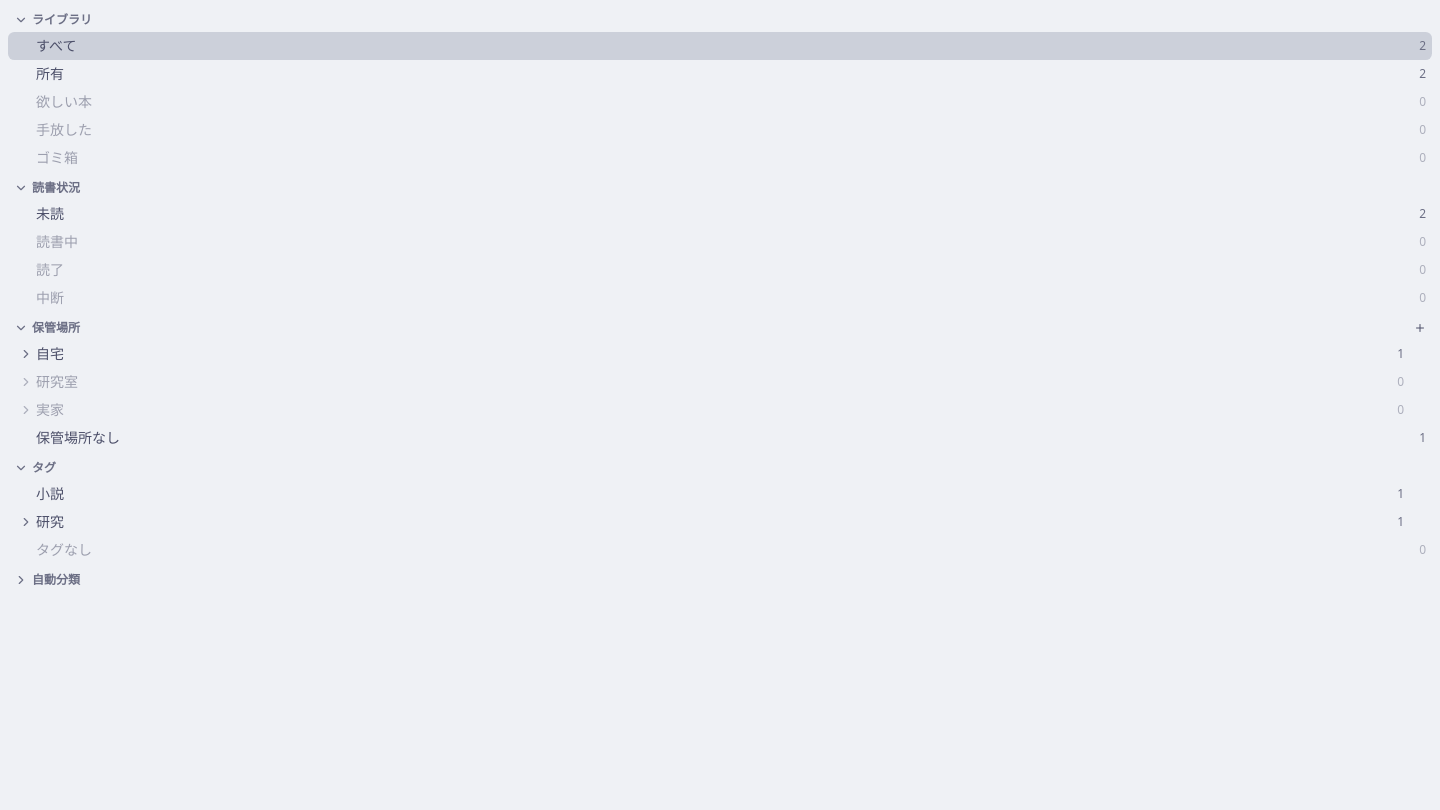
Test: サイドバーの管理（保管場所・タグ） › 保管場所 › 名前が空なら作らず、理由を出す
Step 1. Click the button named "保管場所を追加" → point(1420, 328), box [1408,316,1432,340]
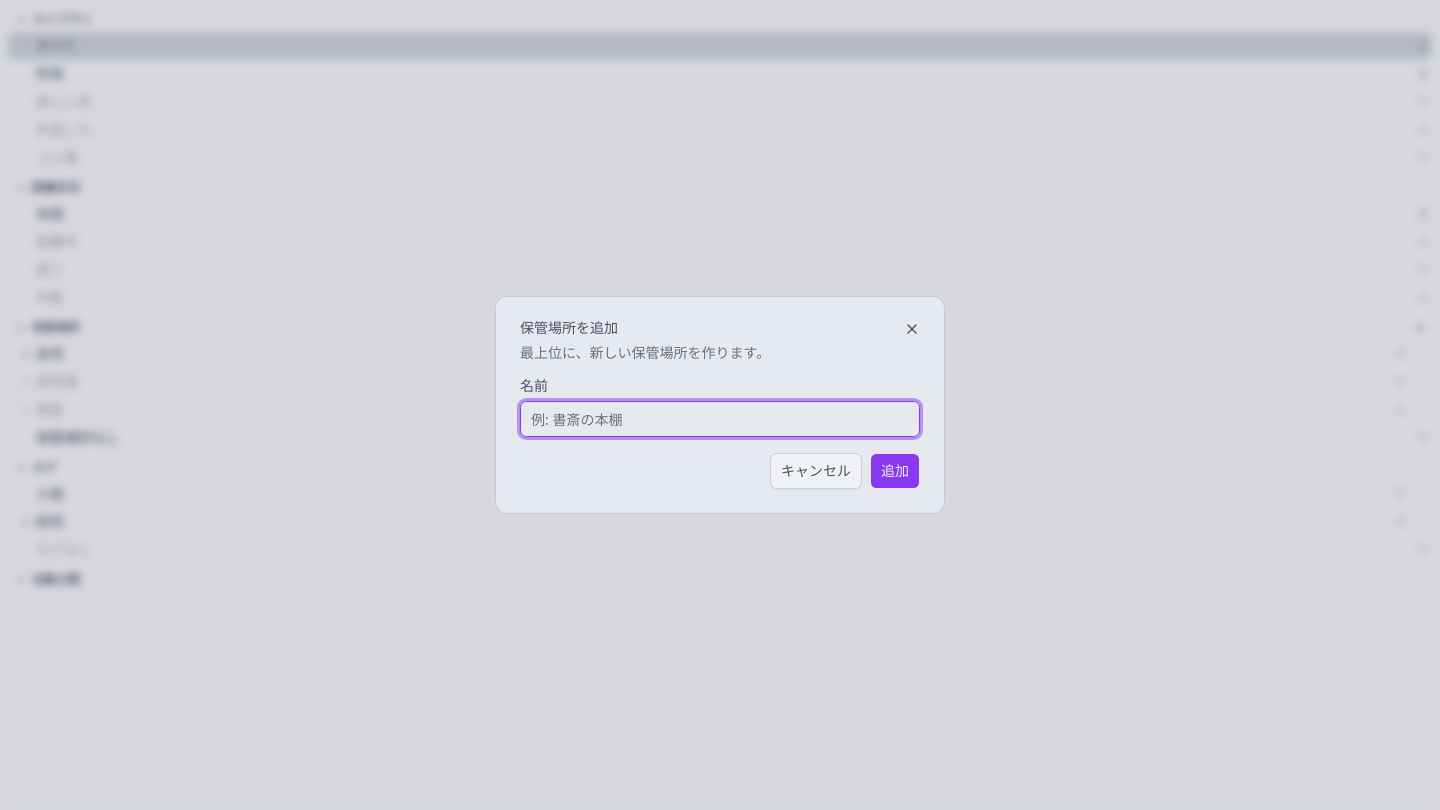
Step 2. Click the button "追加" → point(895, 471), box [870,453,920,489]
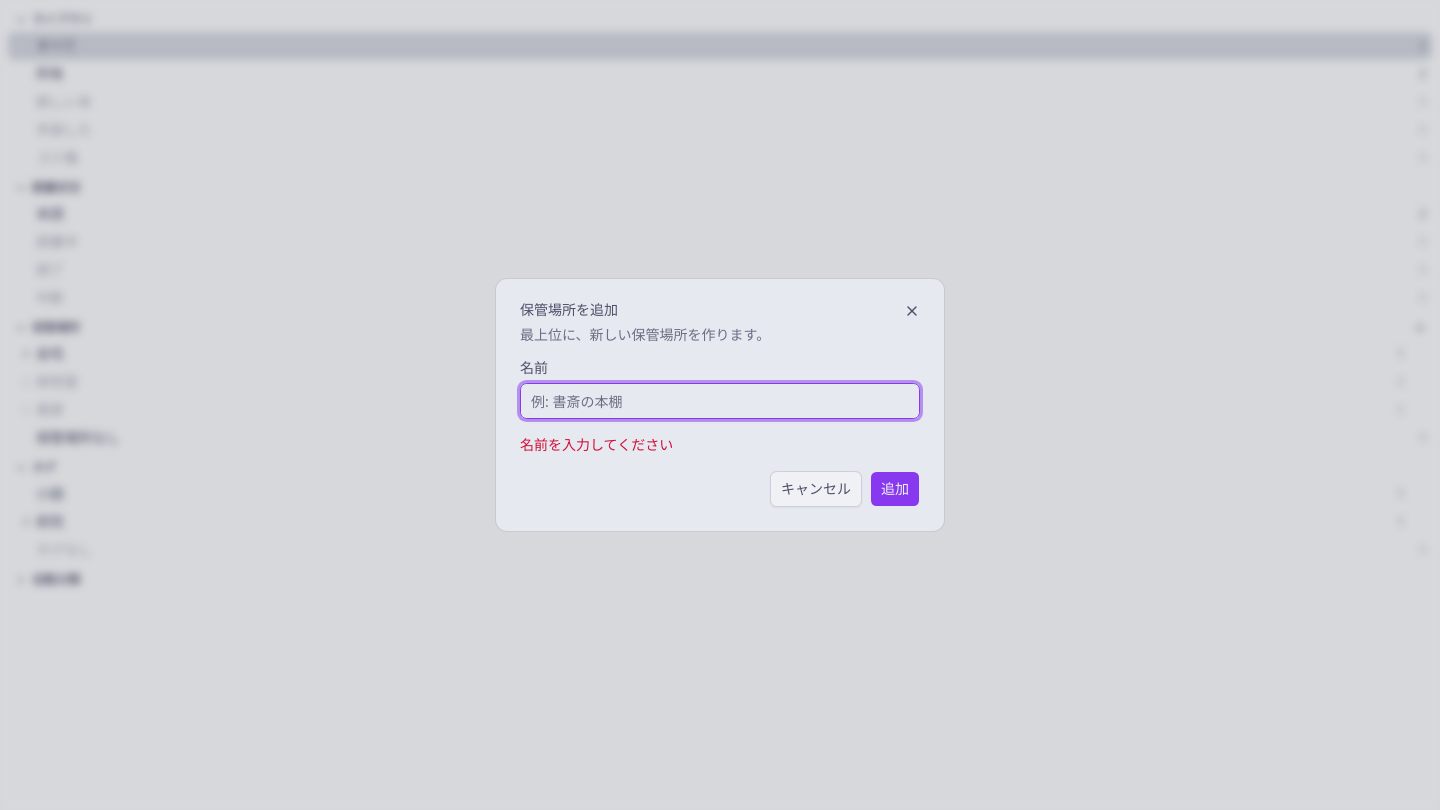
Now the message reads "名前を入力してください", box [520,435,673,454]
